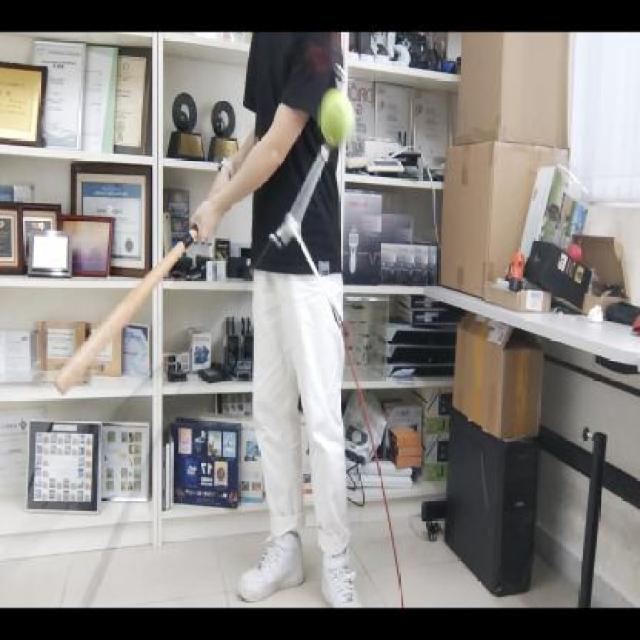baseball: (317, 85, 355, 148)
